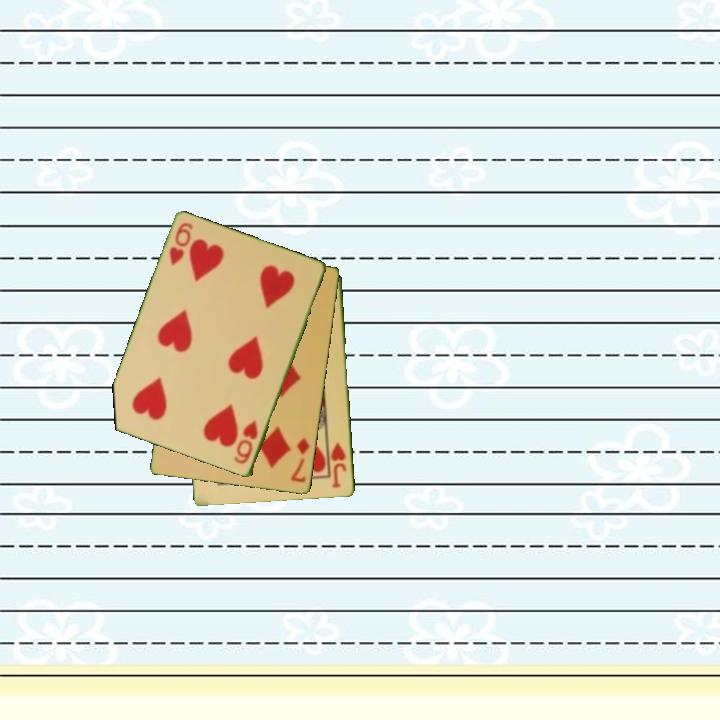6h: (231, 417, 261, 467), (166, 219, 196, 269)
7d: (288, 434, 313, 486)
Jh: (328, 439, 350, 491)
